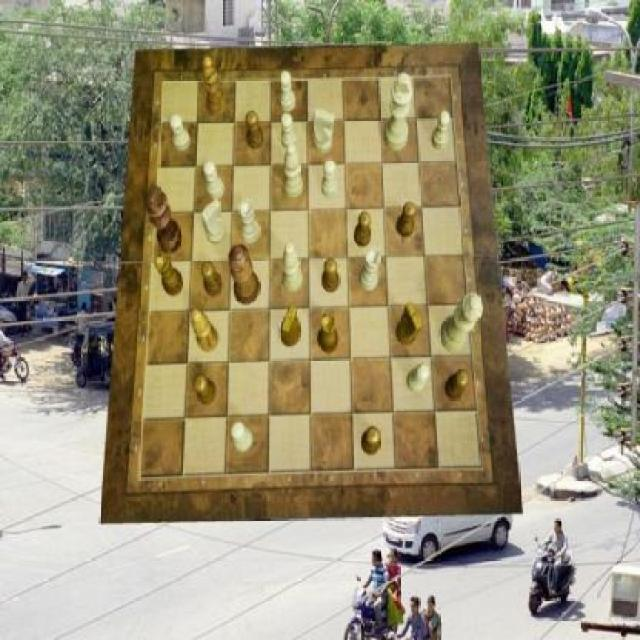bishop: (203, 57, 226, 115), (191, 308, 218, 352)
black-bishop: (146, 187, 182, 256)
black-king: (396, 302, 422, 346), (280, 305, 301, 347)
black-knight: (444, 369, 468, 402), (244, 111, 264, 149), (202, 262, 222, 298), (396, 202, 416, 238), (194, 374, 217, 404), (354, 212, 371, 248), (322, 259, 339, 293), (362, 428, 382, 455)
black-pawn: (228, 244, 260, 304)
black-queen: (154, 254, 183, 298), (318, 314, 339, 354)
black-rook: (283, 143, 303, 199), (282, 242, 302, 292)
white-bishop: (386, 74, 414, 152)
white-king: (202, 197, 226, 245), (314, 108, 334, 153)
white-knight: (204, 162, 226, 199), (170, 114, 192, 151), (432, 111, 450, 151), (280, 71, 297, 112), (231, 422, 253, 452), (408, 363, 430, 392), (322, 160, 338, 198), (282, 112, 298, 150)
white-pawn: (440, 294, 483, 354)
white-queen: (238, 198, 261, 244), (358, 248, 381, 292)
